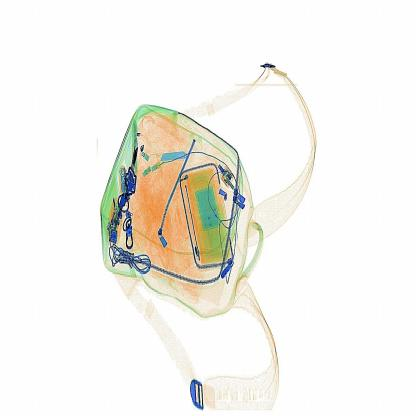wrench: (155, 146, 197, 170)
